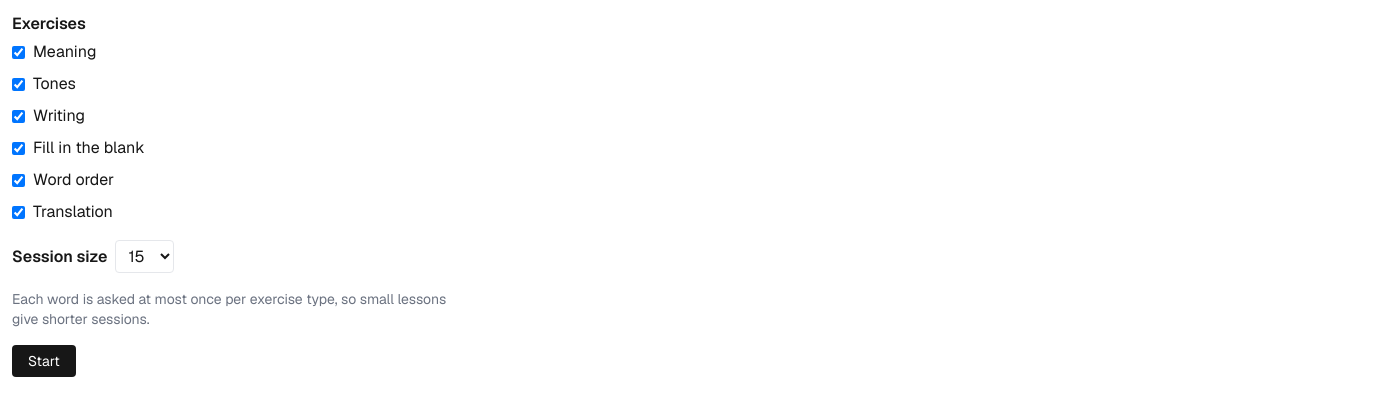
Test: PracticePlayer › can end a session early
The width and height of the screenshot is (1390, 394).
Click the button "Start". click: [44, 361]
box: top-left (12, 345), bottom-right (76, 377)
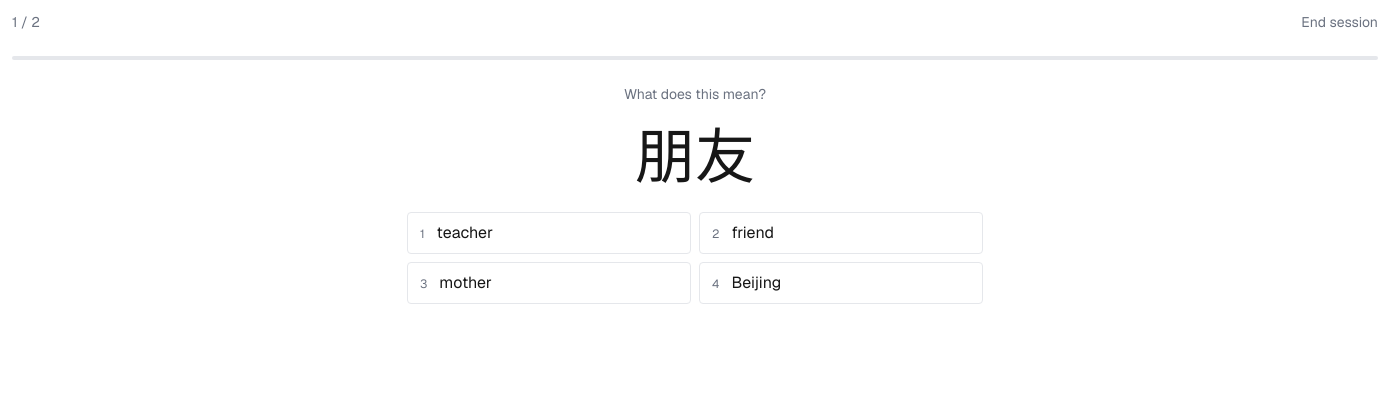
Click the button "End session". click: [1340, 22]
box: top-left (1301, 12), bottom-right (1378, 32)
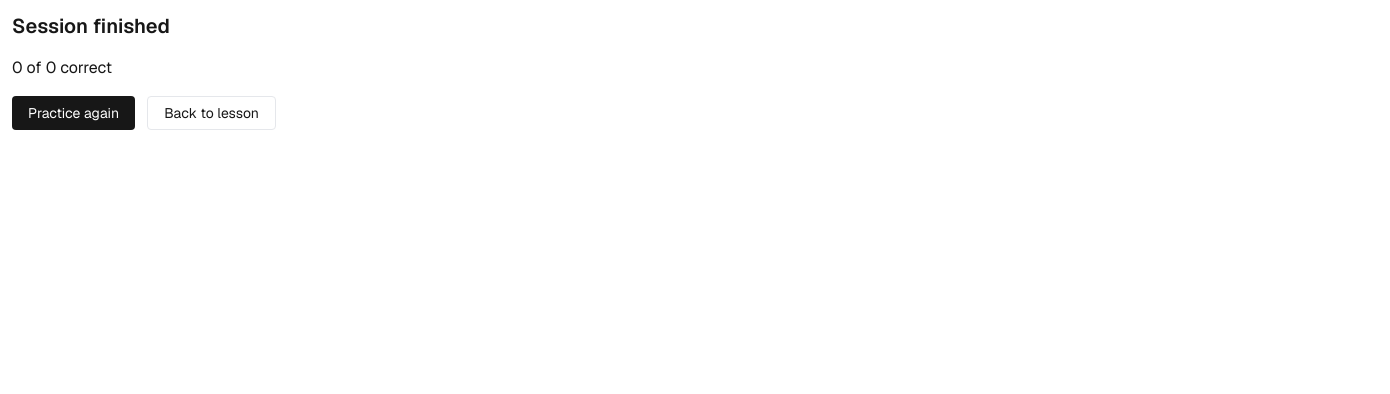
Check: the text "0 of 0 correct" is shown, box top-left (12, 57), bottom-right (112, 78)
